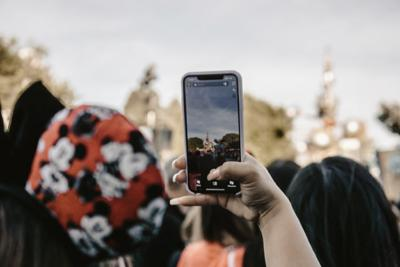cell-phone: (177, 69, 253, 197)
